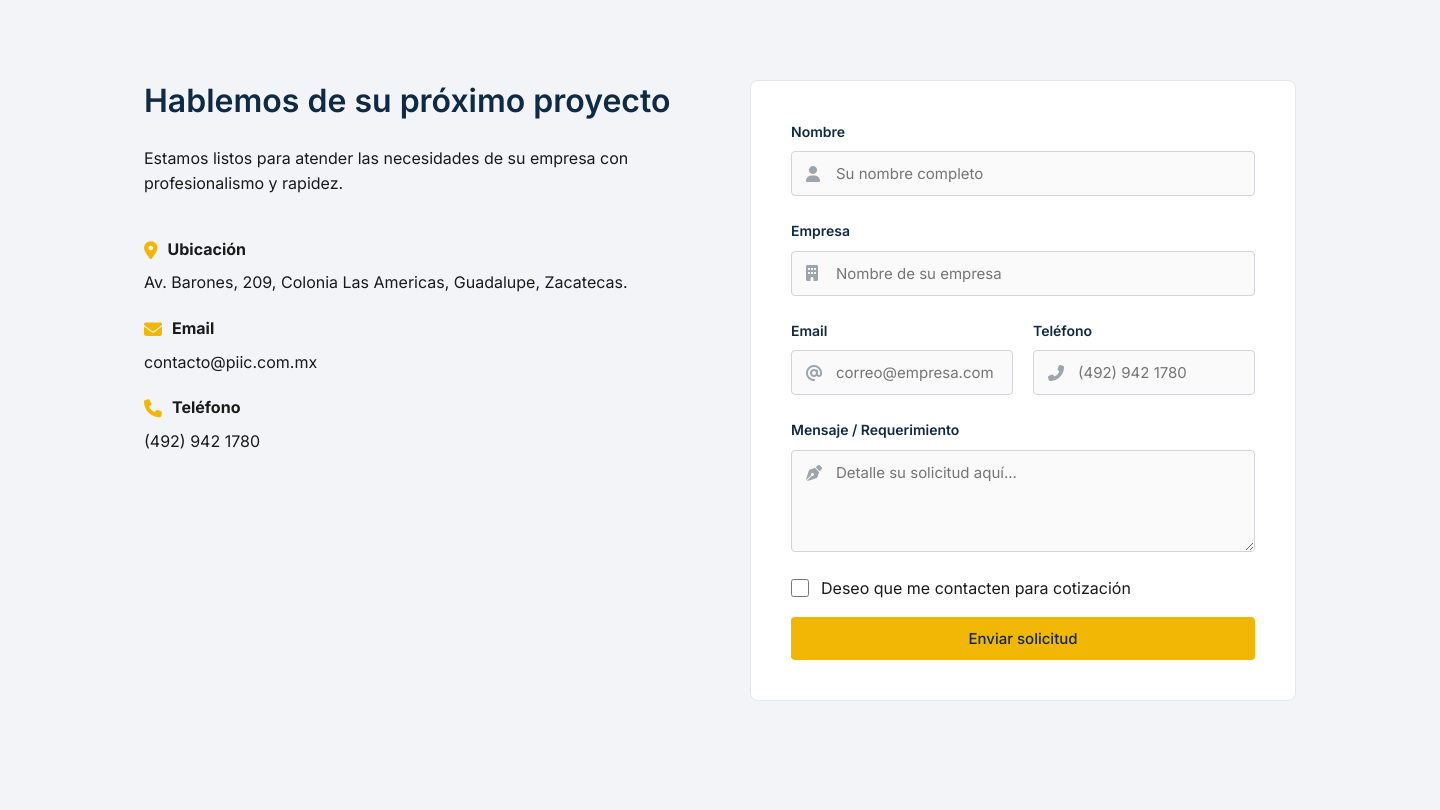
Test: Contact Component › handles network failures correctly
The width and height of the screenshot is (1440, 810).
Type "Net User" into the field labelled "Nombre" at {"x": 1023, "y": 174}, box [791, 151, 1255, 196]
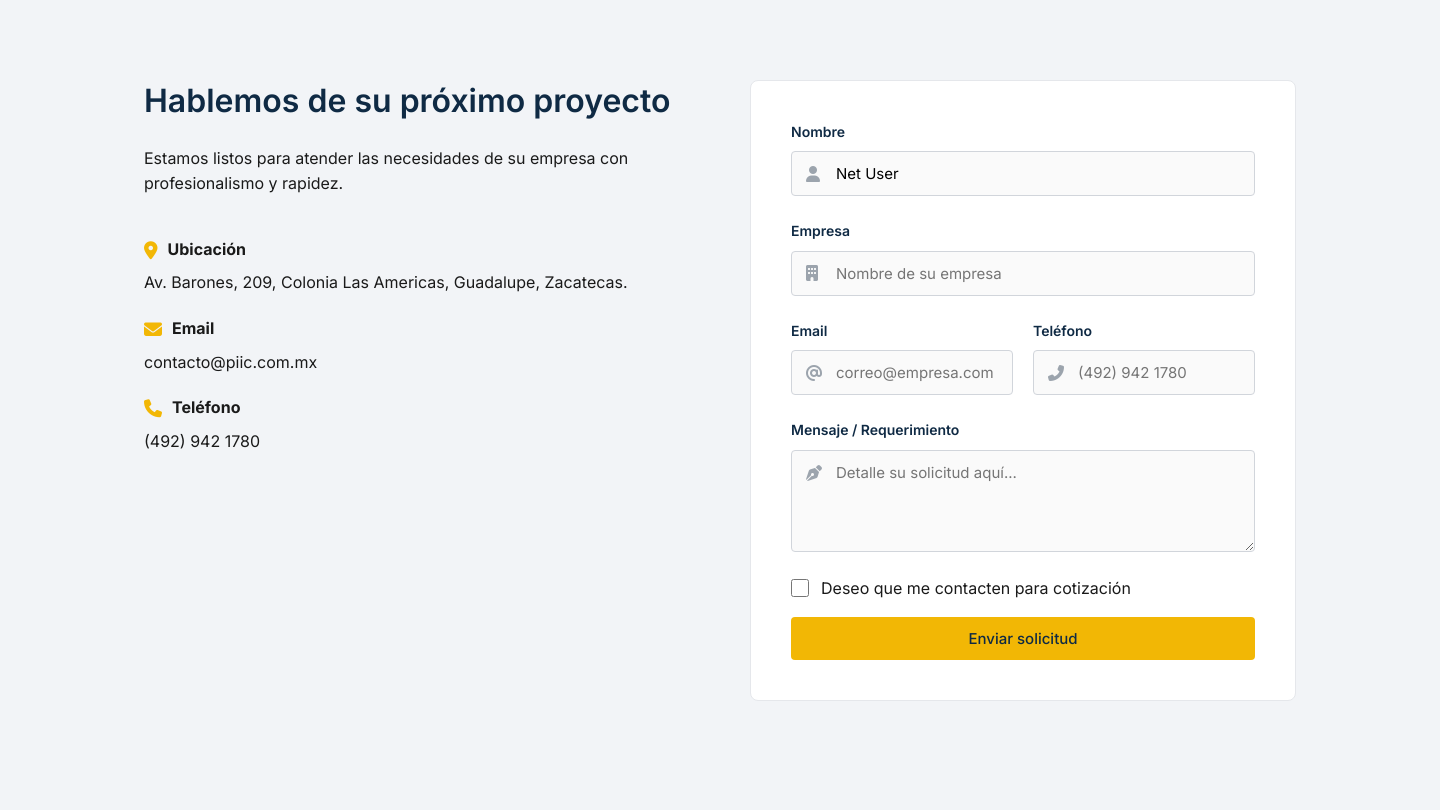
Type "Net Corp" into the field labelled "Empresa" at {"x": 1023, "y": 273}, box [791, 251, 1255, 296]
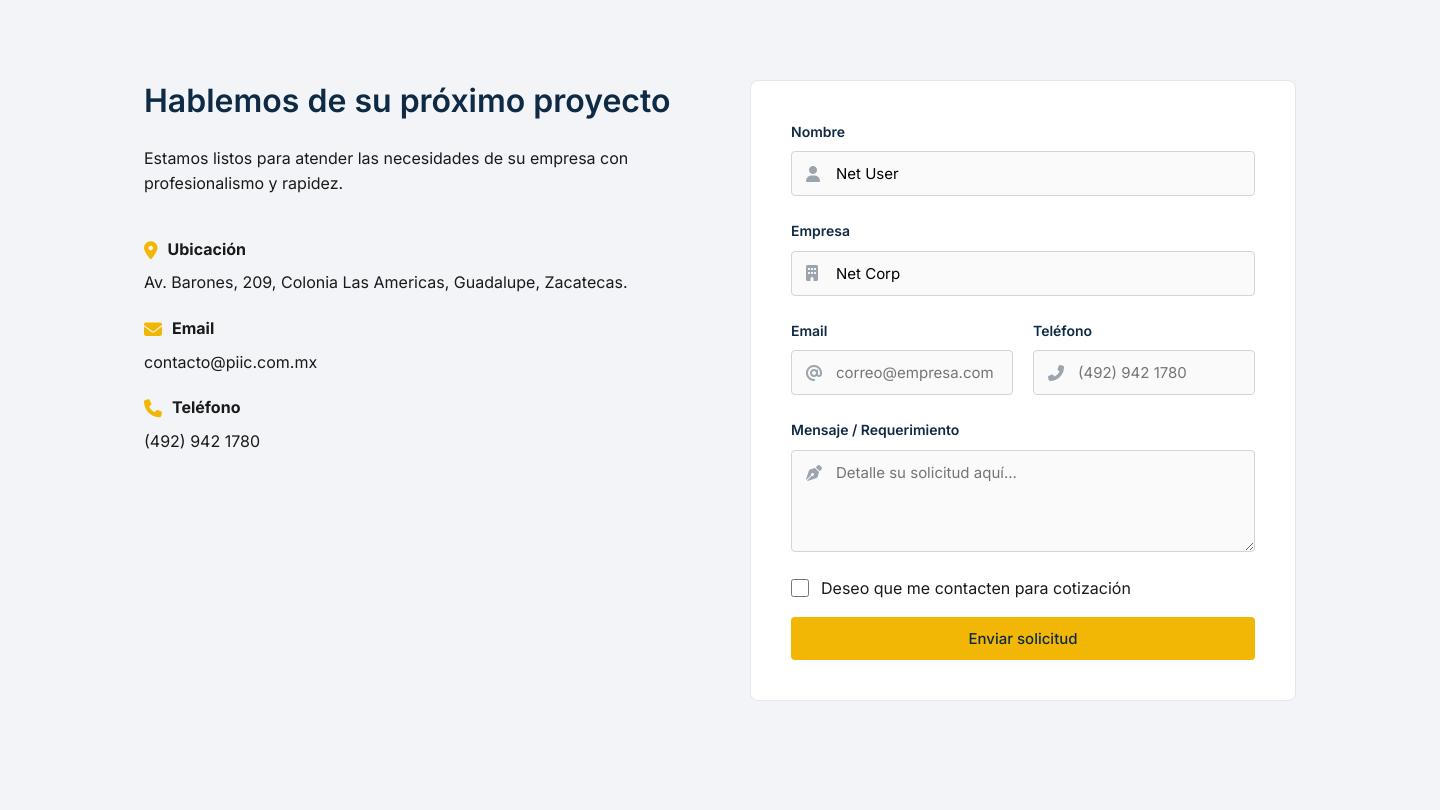
Type "net@corp.com" into the field labelled "Email" at {"x": 902, "y": 373}, box [791, 350, 1013, 395]
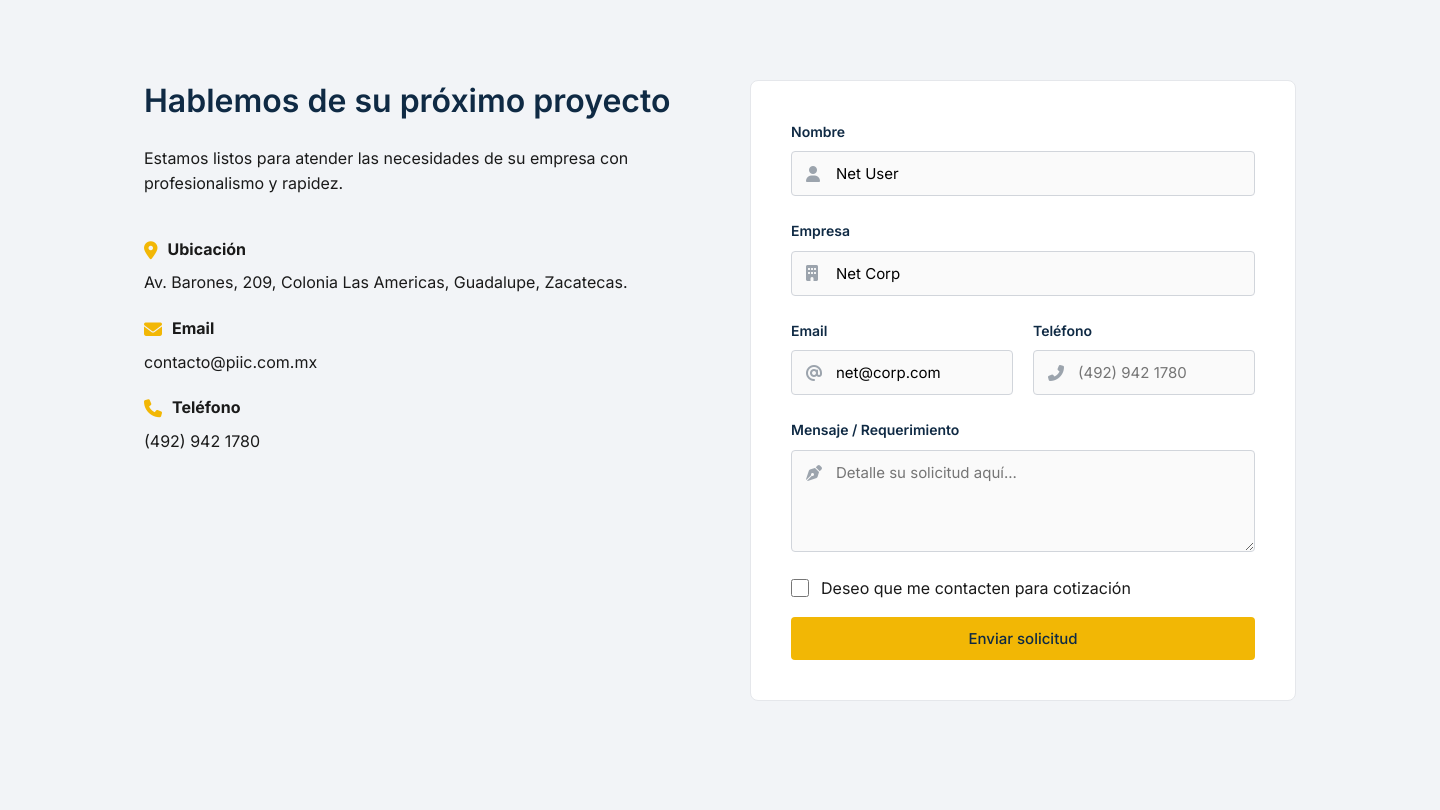
Type "Network test" into the text box labelled "Mensaje / Requerimiento" at {"x": 1023, "y": 501}, box [791, 450, 1255, 552]
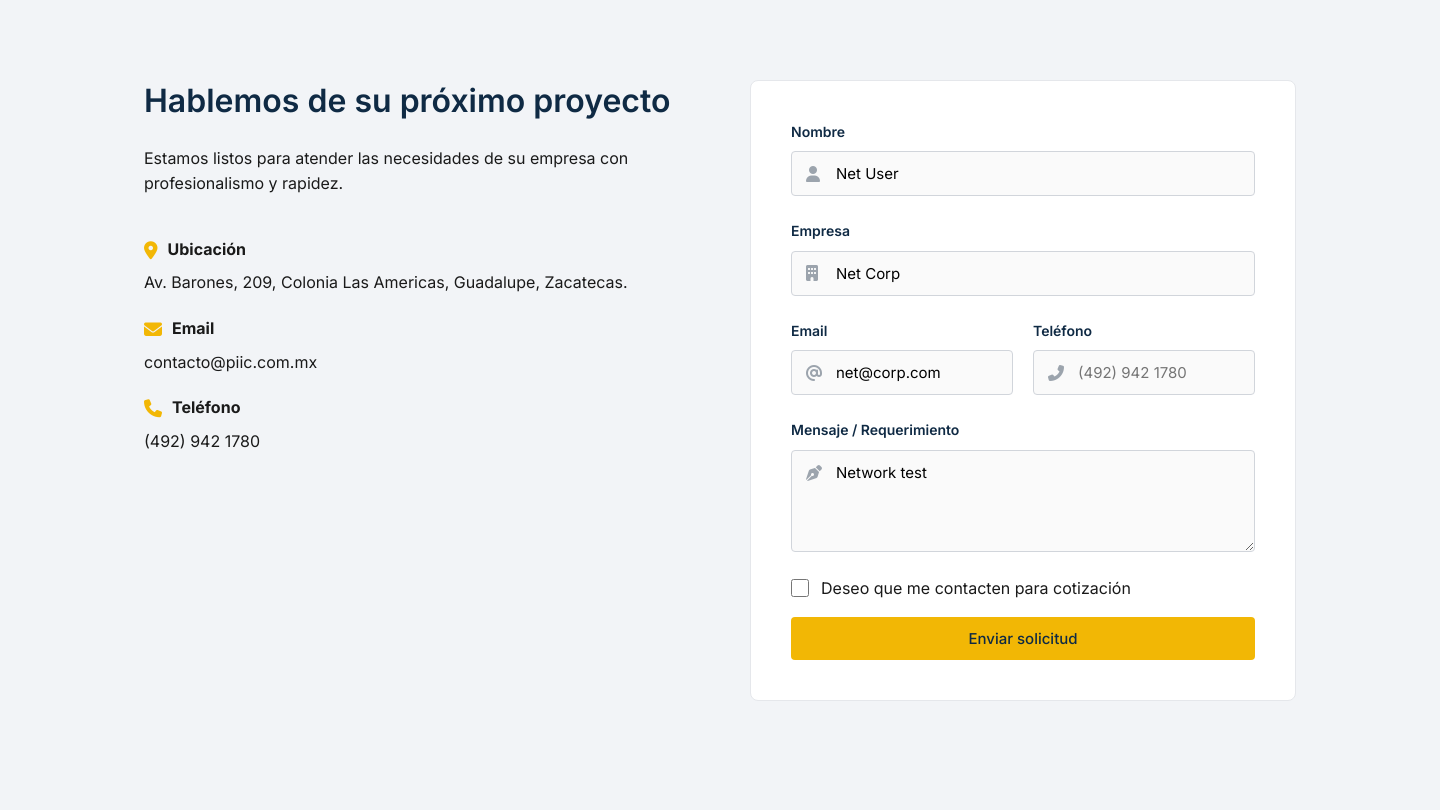
Click the button "Enviar solicitud" at {"x": 1023, "y": 639}, box [791, 617, 1255, 660]
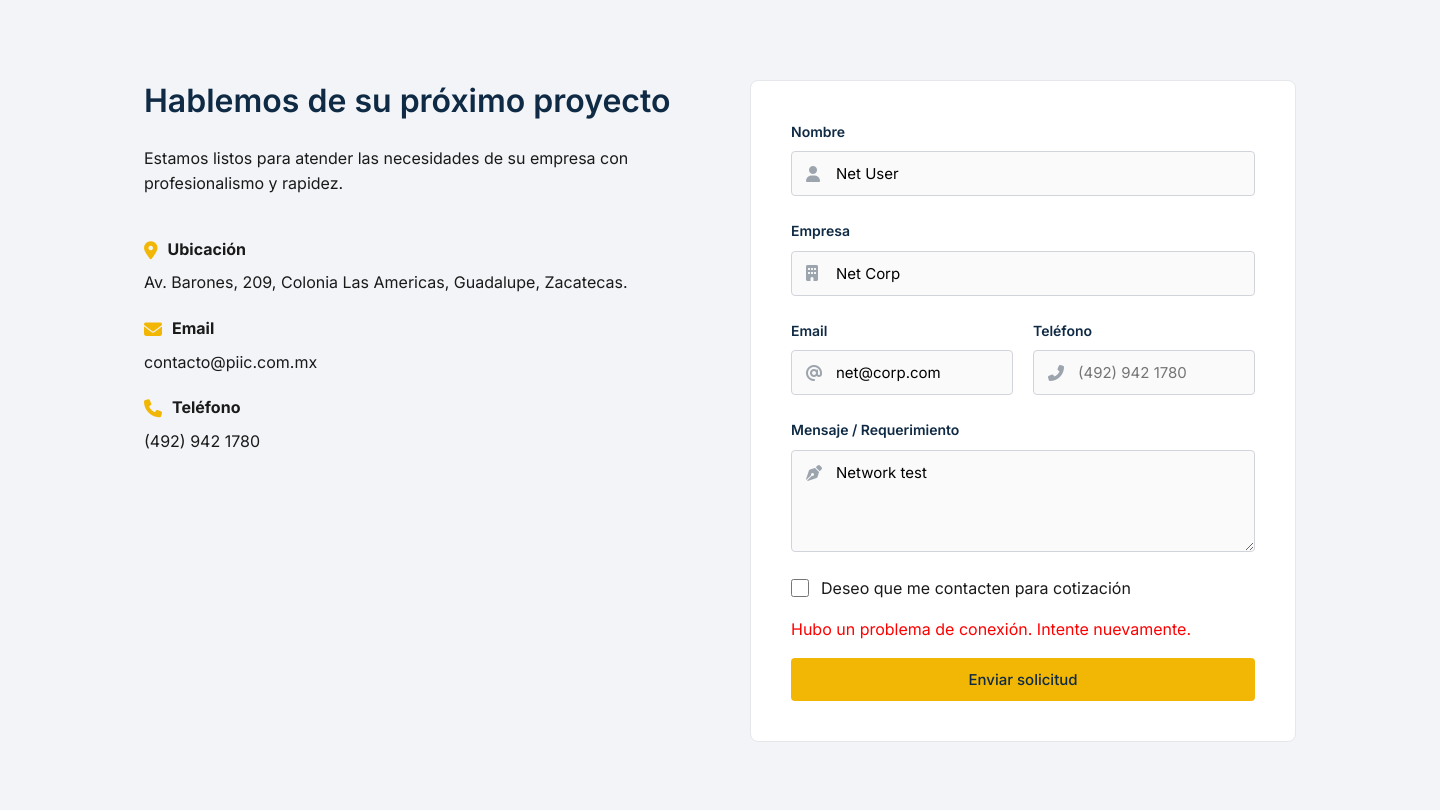
Expected: the text "Hubo un problema de conexión. Intente nuevamente." is shown, [791, 617, 1255, 643]
